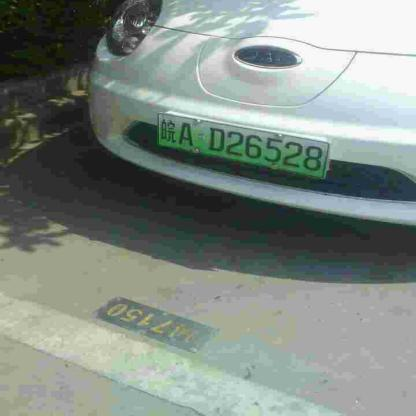lp: (156, 112, 328, 177)
